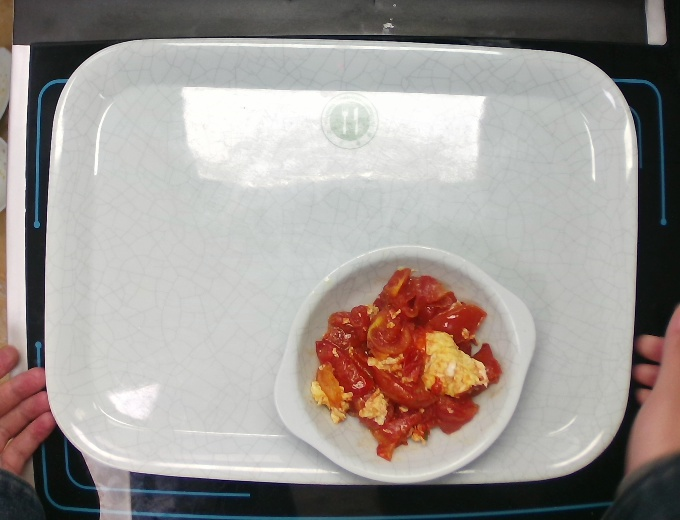JYsf-Shuang_Er_Wan: (269, 241, 540, 486)
